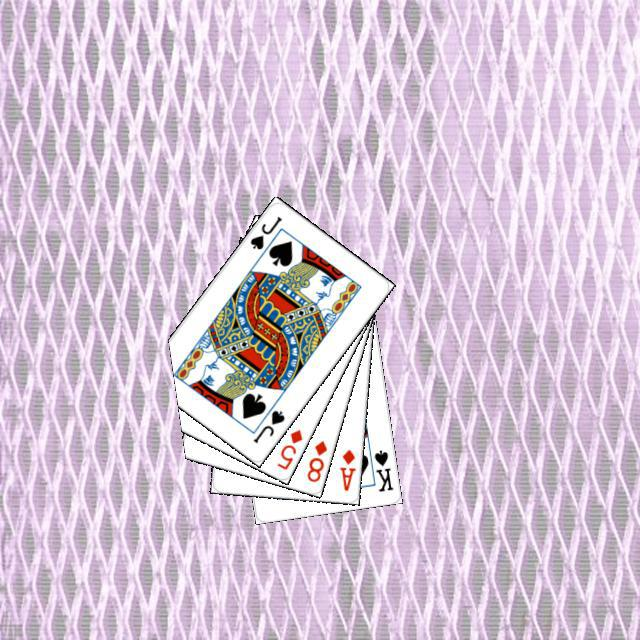5d: (272, 424, 304, 471)
8d: (302, 436, 329, 484)
Ad: (335, 444, 357, 493)
Js: (245, 211, 284, 251), (248, 405, 286, 445)
Ks: (369, 445, 395, 494)
